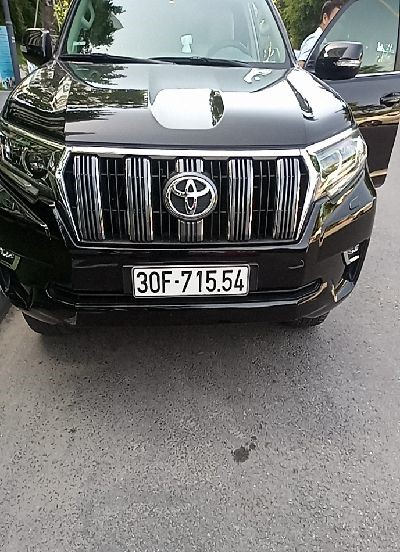number_plate: (119, 258, 262, 310)
